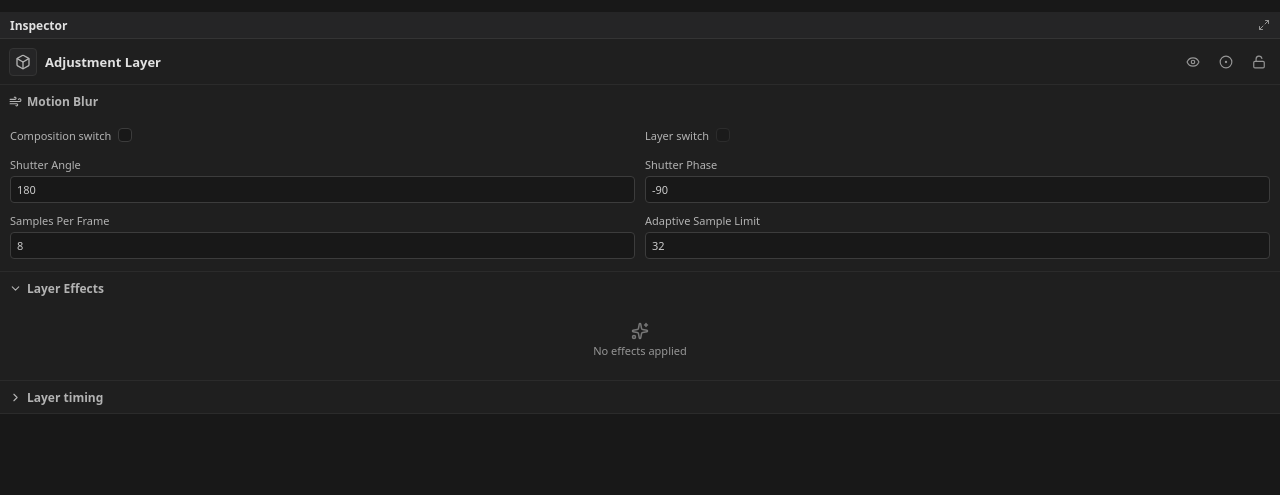
it: adjustment layer inspector › exposes only safe layer switches, effects, and in/out timing
Expected: the button named "Hide layer" is shown, [1180,49,1205,74]
Expected: the button named "Solo layer" is shown, [1213,49,1238,74]
Click the button "Layer timing".
click(65, 397)  # box [9,381,1271,413]
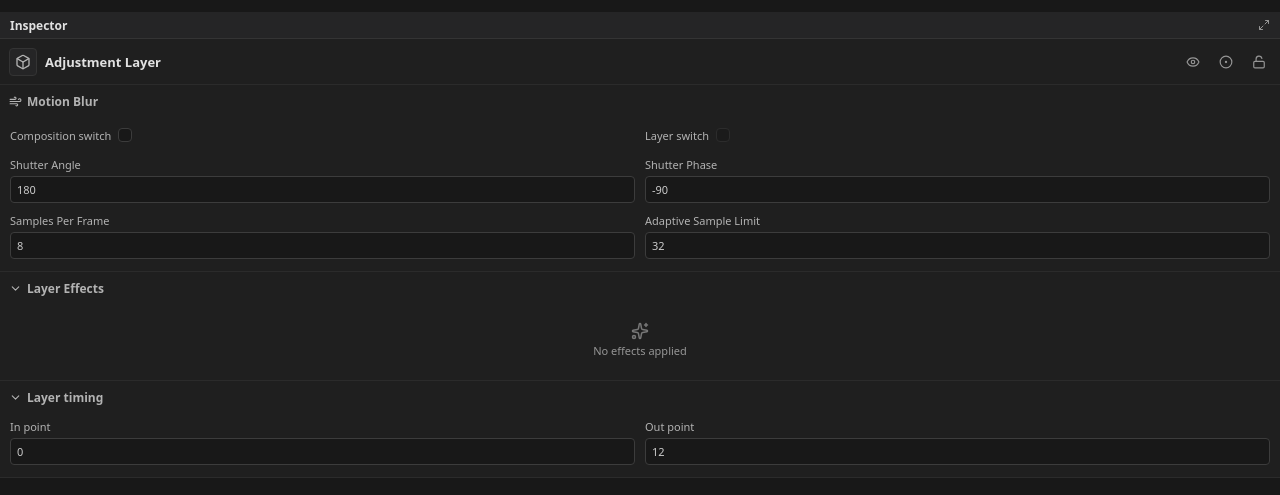
Result: the text "In point" is shown at [10,419,635,465]
Result: the text "Out point" is shown at [645,419,1270,465]
